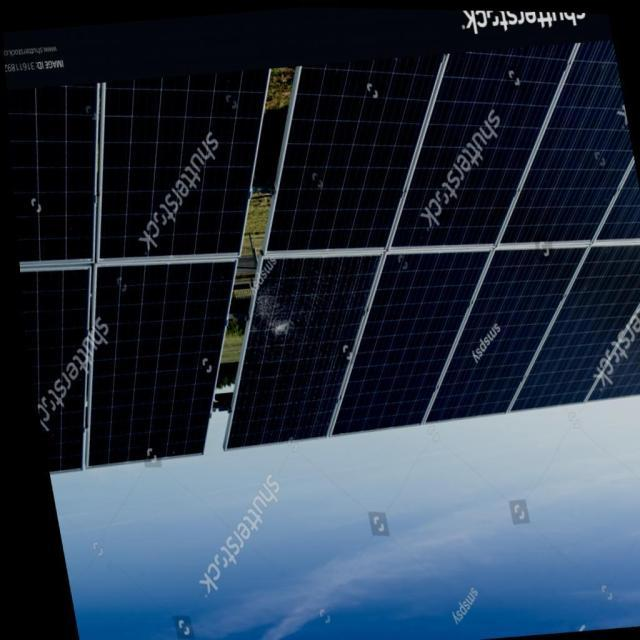cracked: (243, 258, 366, 442)
